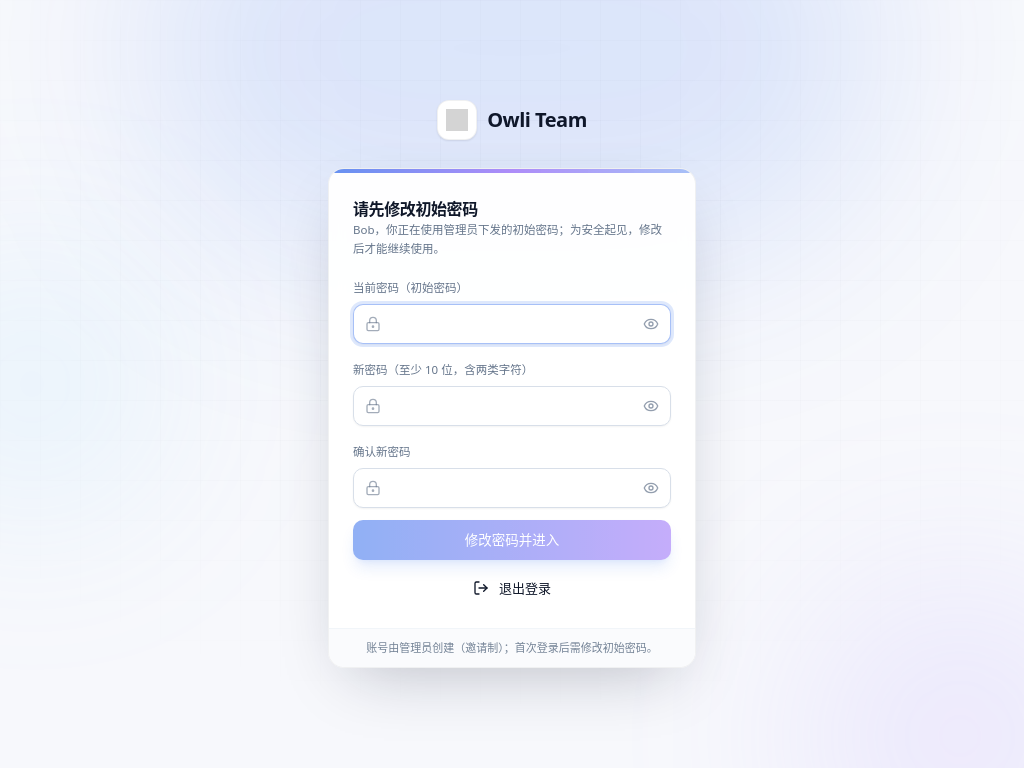
Test: M57：认证页面 › 强制改密页：两次新密码不一致 → 本地校验拦截
This screenshot has width=1024, height=768.
In the password field labelled "当前密码（初始密码）": [512, 324] box [353,304,671,344], type "InitPass1!"
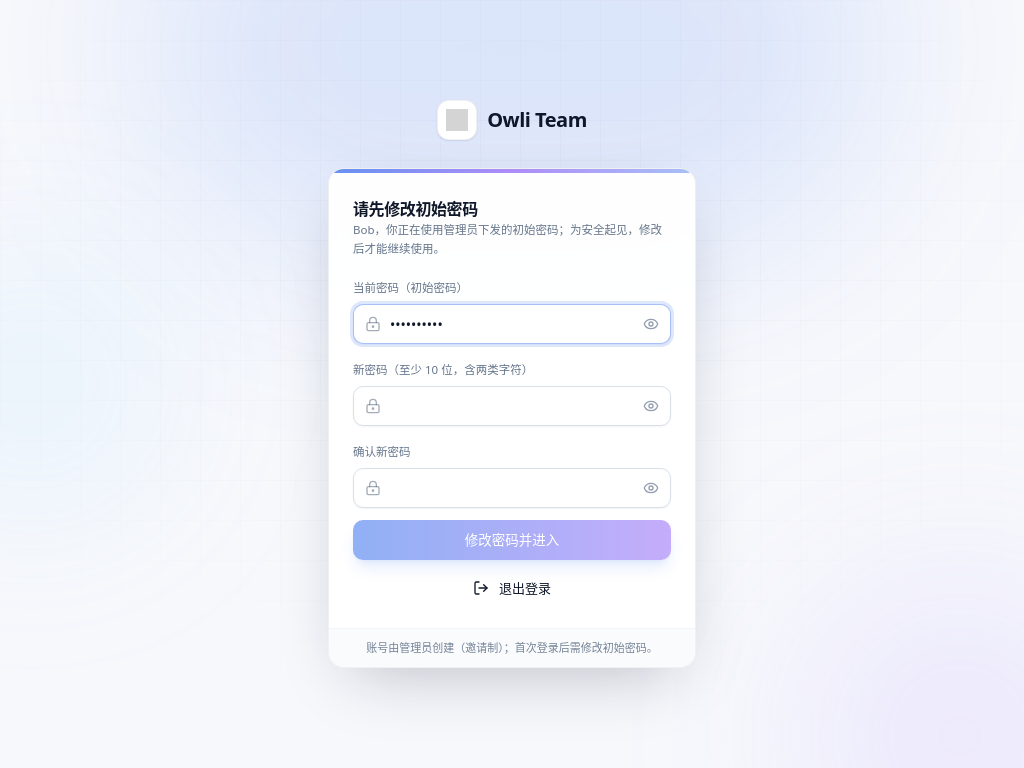
In the password field labelled "新密码（至少 10 位，含两类字符）": [512, 406] box [353,386,671,426], type "FreshPass2@"
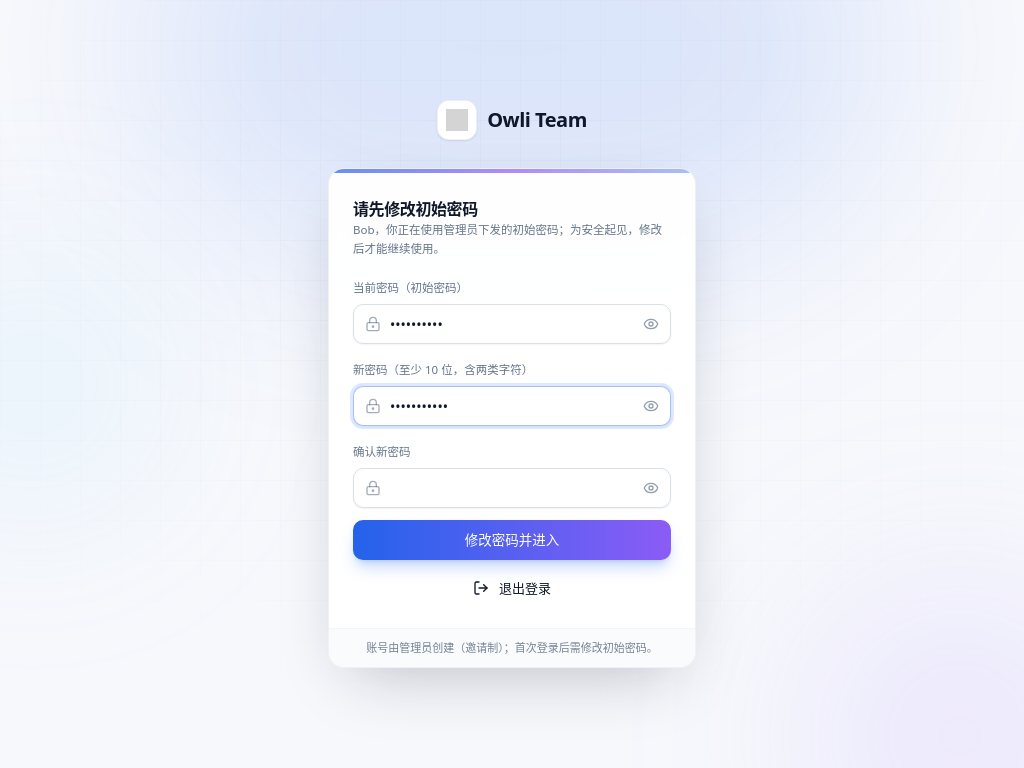
In the password field labelled "确认新密码": [512, 488] box [353,468,671,508], type "Mismatch3#"
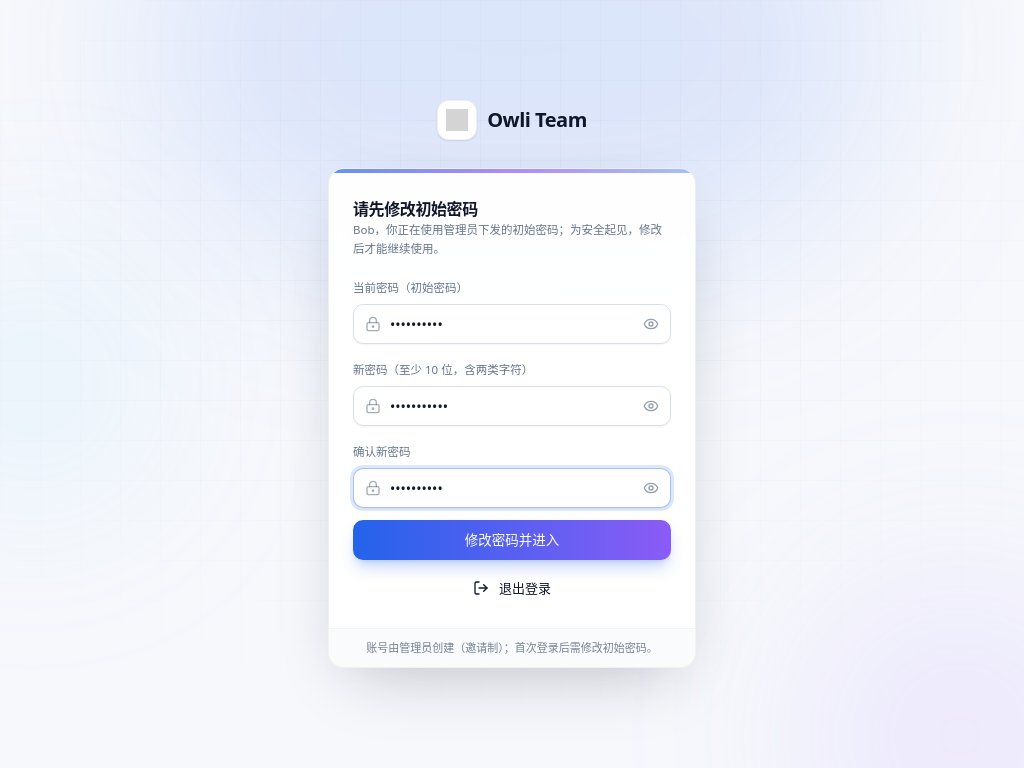
Click the button "修改密码并进入": [512, 540] box [353,520,671,560]
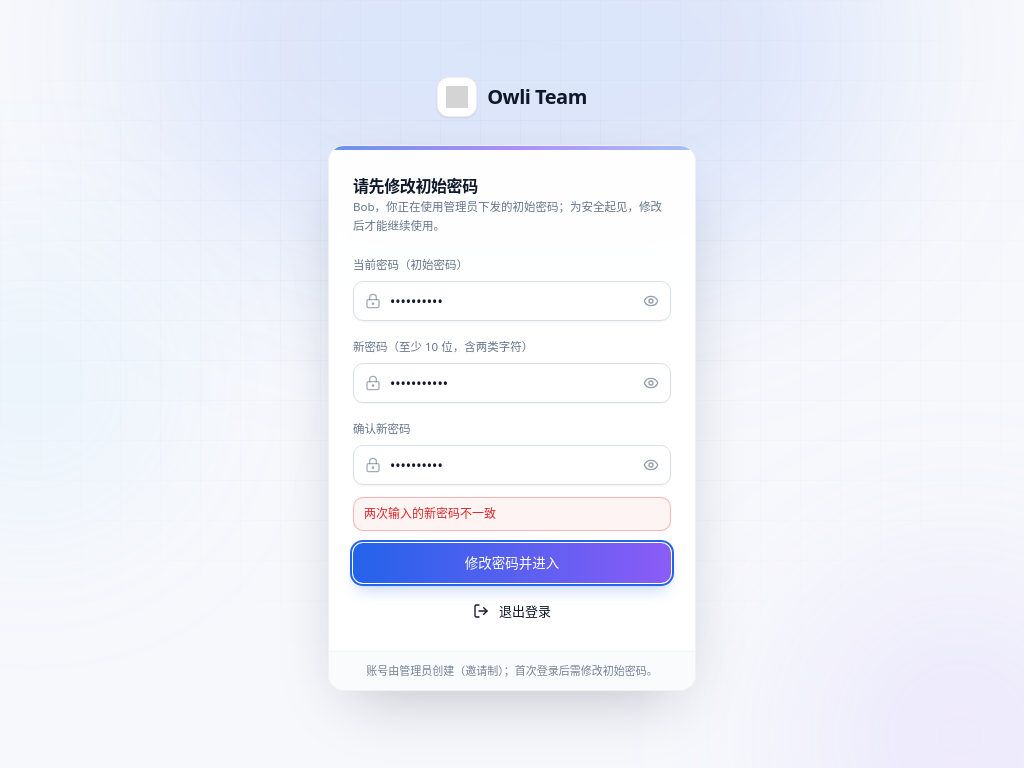
Expected: the message reads "两次输入的新密码不一致", [364,505,496,522]
